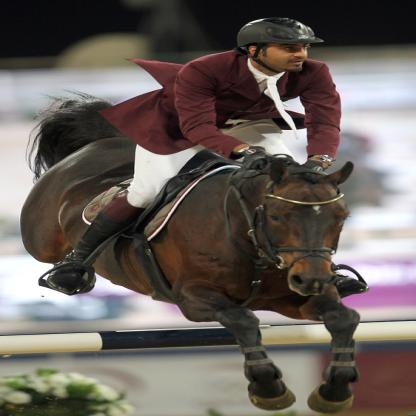Helmet: (232, 14, 320, 72)
